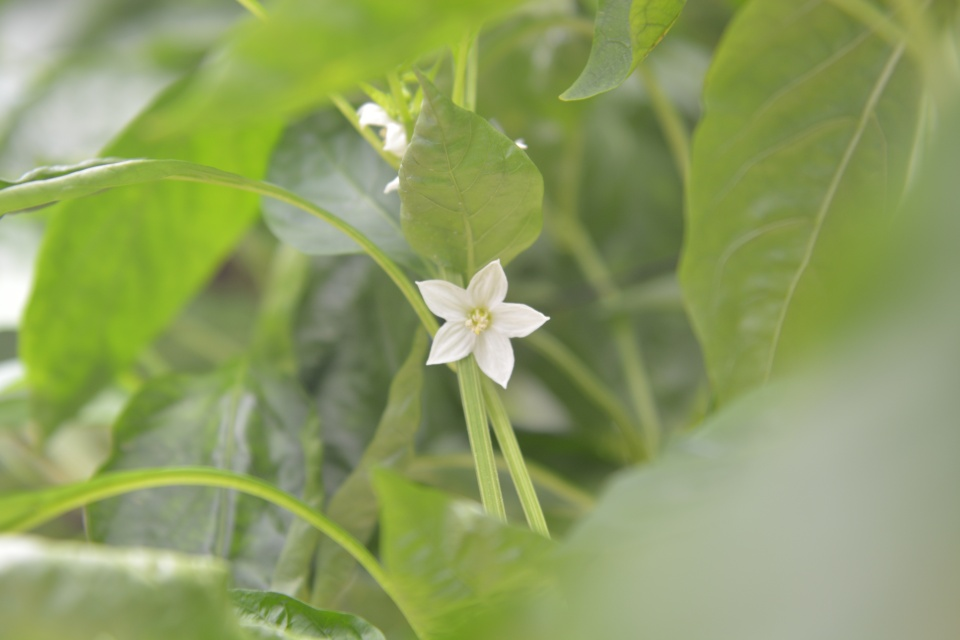flower: (412, 265, 552, 393)
